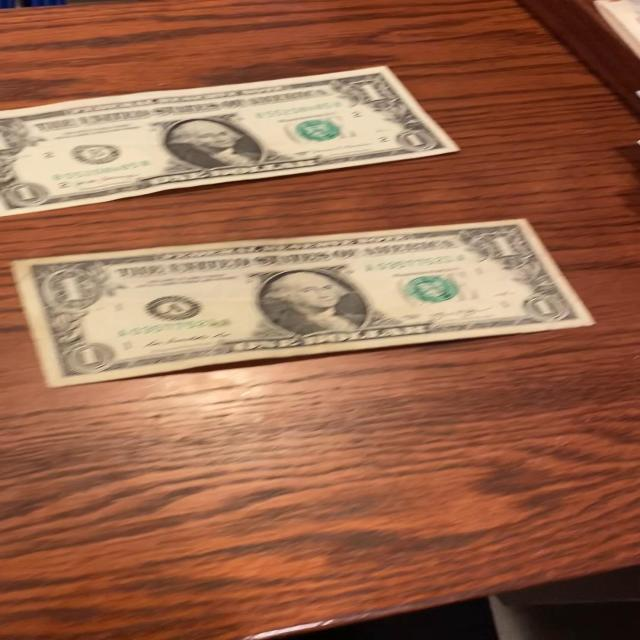1-Front: (0, 217, 601, 390), (0, 61, 465, 219)
